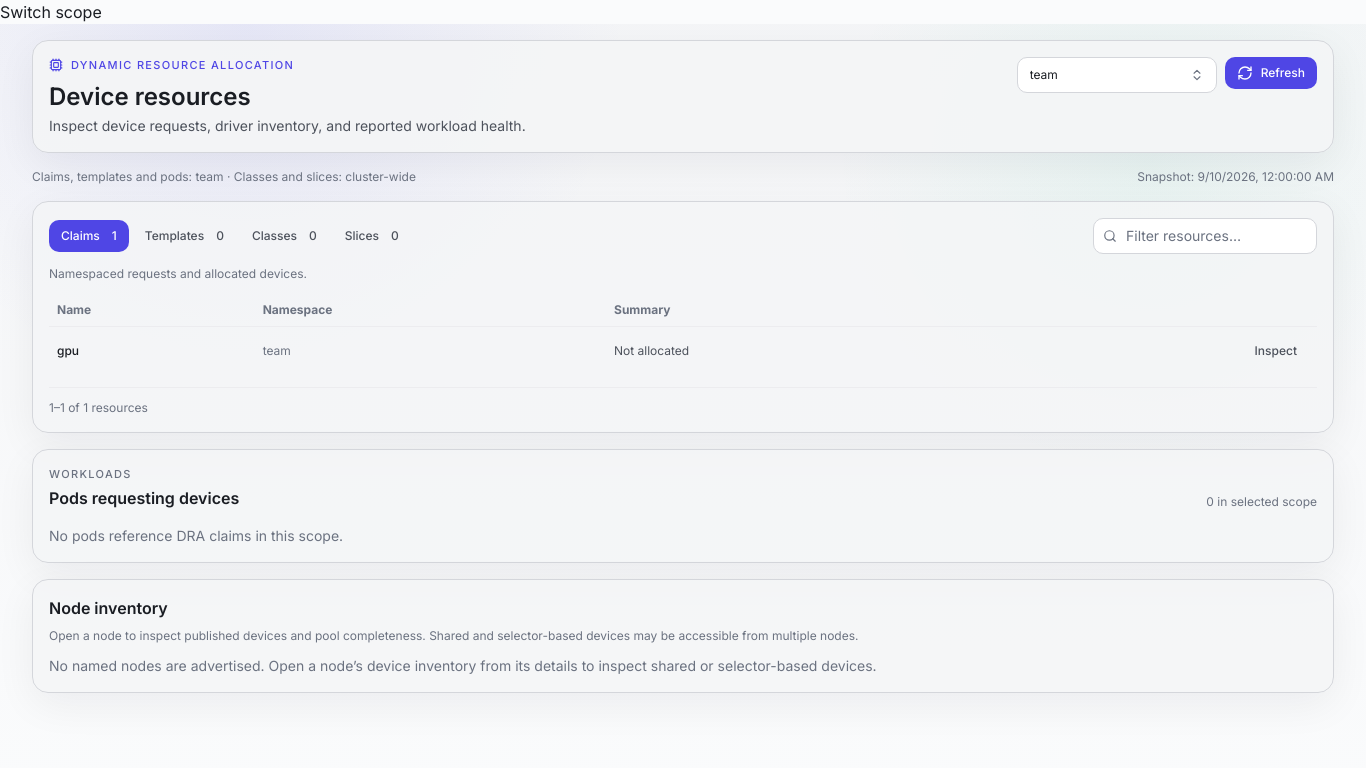
it: DeviceResourcesView › redacts resource inspection and exposes no mutation controls
Step 1. Click the button with aria-label "Inspect ResourceClaim gpu" → (1276, 350), box x1=1243 y1=334 x2=1309 y2=366
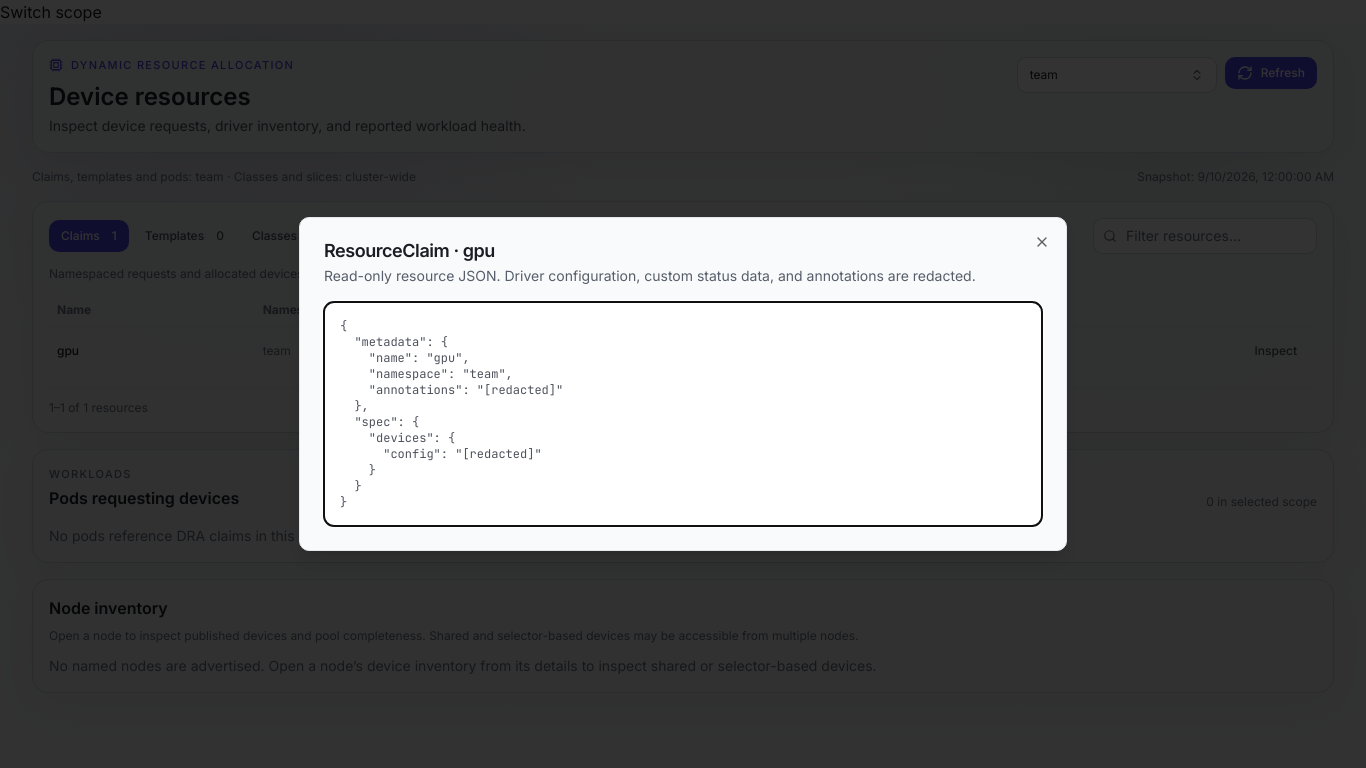
Expected: the dialog does not show "never-render", x1=299 y1=217 x2=1067 y2=551
Expected: the dialog shows "[redacted]", x1=340 y1=318 x2=563 y2=510
